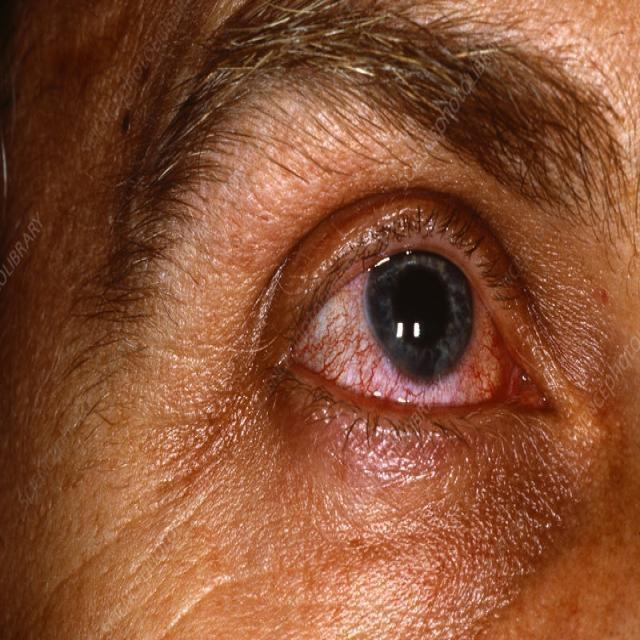Conjunctivitis: (296, 281, 556, 421)
